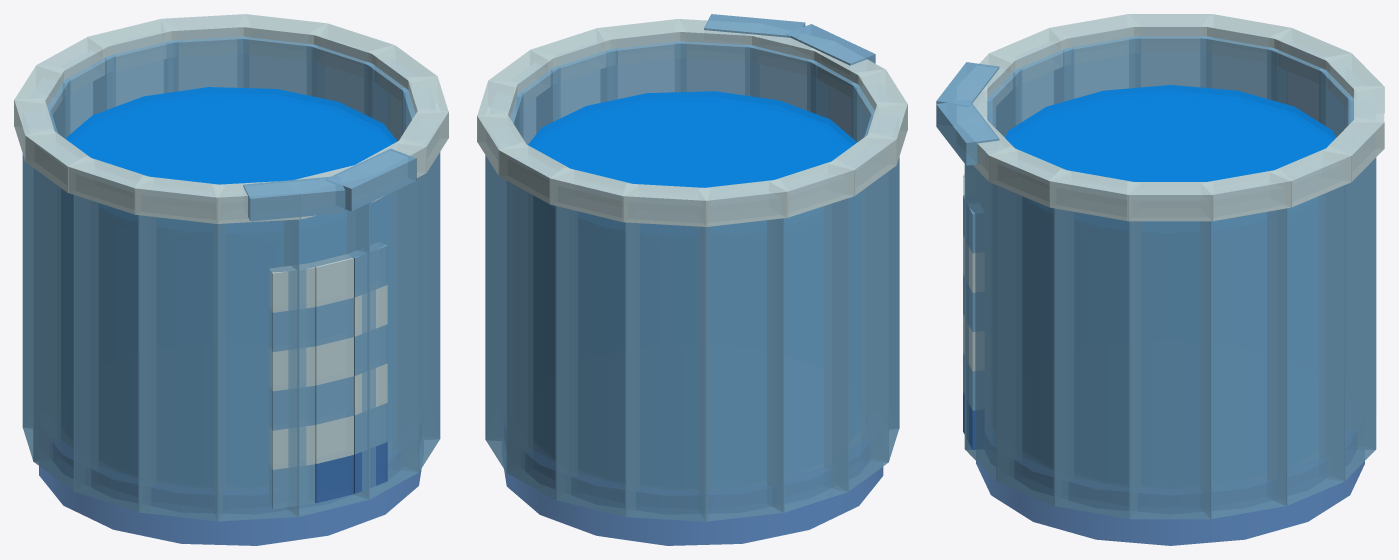
The model's file is CMU3DCryoxadoneBeakerSmallDrinksExtraCloud.glb.
The picture shows the model from 3 angles, left to right: view 1: azimuth 30°, elevation 25°; view 2: azimuth 150°, elevation 25°; view 3: azimuth 270°, elevation 25°; orthographic projection.
Parts seen in each view (by area): view 1: thin hollow blue glass wall 10, thin hollow blue glass wall 09, level reagent meniscus, thin hollow blue glass wall 11, thin hollow blue glass wall 08, thick glass vessel floor, thin hollow blue glass wall 13, thin hollow blue glass wall 14, thin hollow blue glass wall 07, source front label tangent 0, source front label tangent 1, thin hollow blue glass wall 12 (+26 smaller); view 2: thin hollow blue glass wall 06, thin hollow blue glass wall 05, thin hollow blue glass wall 04, thin hollow blue glass wall 07, level reagent meniscus, thin hollow blue glass wall 03, thin hollow blue glass wall 08, thick glass vessel floor, thin hollow blue glass wall 02, thin hollow blue glass wall 09, thin hollow blue glass wall 01, thin hollow blue glass wall 14 (+24 smaller); view 3: thin hollow blue glass wall 15, thin hollow blue glass wall 01, thin hollow blue glass wall 00, level reagent meniscus, thin hollow blue glass wall 02, thin hollow blue glass wall 14, thin hollow blue glass wall 03, thick glass vessel floor, thin hollow blue glass wall 13, thin hollow blue glass wall 04, source front label tangent 2, thin hollow blue glass wall 07 (+24 smaller).
Boxes of the visible parts, <box> form: thin hollow blue glass wall 10: <box>138,215,225,521</box>; thin hollow blue glass wall 09: <box>73,195,155,512</box>; level reagent meniscus: <box>65,87,397,184</box>; thin hollow blue glass wall 11: <box>214,219,299,521</box>; thin hollow blue glass wall 08: <box>33,168,98,491</box>; thick glass vessel floor: <box>39,422,421,545</box>; thin hollow blue glass wall 13: <box>347,177,419,499</box>; thin hollow blue glass wall 14: <box>392,152,439,472</box>; thin hollow blue glass wall 07: <box>22,107,60,461</box>; source front label tangent 0: <box>269,263,315,509</box>; source front label tangent 1: <box>311,254,353,503</box>; thin hollow blue glass wall 12: <box>284,203,369,516</box>; thin hollow blue glass wall 06: <box>698,218,784,521</box>; thin hollow blue glass wall 05: <box>625,222,709,521</box>; thin hollow blue glass wall 04: <box>555,206,639,517</box>; thin hollow blue glass wall 07: <box>767,198,848,512</box>; level reagent meniscus: <box>528,91,856,187</box>; thin hollow blue glass wall 03: <box>506,180,577,499</box>; thin hollow blue glass wall 08: <box>824,171,888,491</box>; thick glass vessel floor: <box>504,423,883,545</box>; thin hollow blue glass wall 02: <box>485,155,532,472</box>; thin hollow blue glass wall 09: <box>861,111,899,462</box>; thin hollow blue glass wall 01: <box>486,92,523,440</box>; thin hollow blue glass wall 14: <box>600,41,686,102</box>; thin hollow blue glass wall 15: <box>1053,208,1140,518</box>; thin hollow blue glass wall 01: <box>1200,208,1287,518</box>; thin hollow blue glass wall 00: <box>1129,221,1211,519</box>; level reagent meniscus: <box>1005,85,1335,181</box>; thin hollow blue glass wall 02: <box>1267,185,1345,505</box>; thin hollow blue glass wall 14: <box>996,185,1073,505</box>; thin hollow blue glass wall 03: <box>1319,157,1376,481</box>; thick glass vessel floor: <box>976,429,1364,545</box>; thin hollow blue glass wall 13: <box>964,164,1021,481</box>; thin hollow blue glass wall 04: <box>1348,96,1375,449</box>; source front label tangent 2: <box>963,195,984,449</box>; thin hollow blue glass wall 07: <box>1200,36,1286,103</box>.
Size of the model in its own units: 0.3084 by 0.287 by 0.3229.
Materials: 8 (3 with a texture image).
